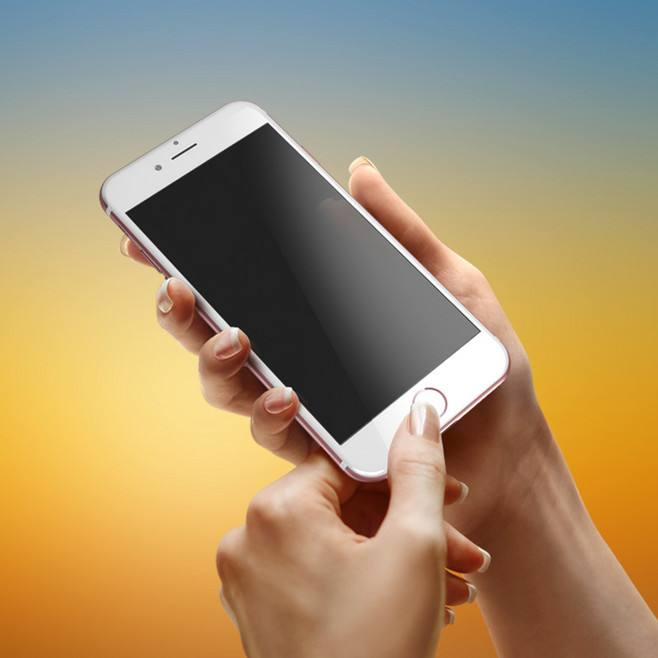phone: (89, 87, 559, 589)
